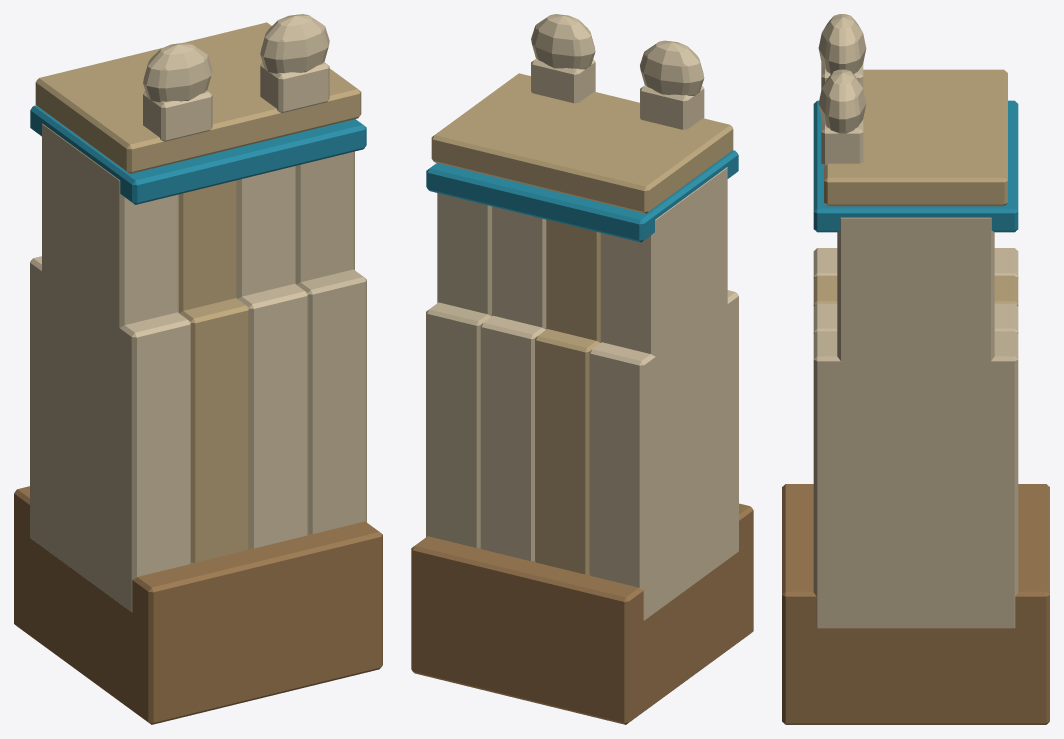
File: middle_eastern-wall.glb
The picture shows the model from 3 angles, left to right: view 1: azimuth 30°, elevation 25°; view 2: azimuth 150°, elevation 25°; view 3: azimuth 270°, elevation 25°; orthographic projection. The views are drawn at different scales.
Visible parts, largest first — view 1: body; view 2: body; view 3: body.
Part boxes in pixels (x1,y1,x2,y2): body: (14,14,382,724); body: (411,14,753,724); body: (782,14,1049,724).
Size of the model in its own units: 1 by 2.63 by 1.02.
